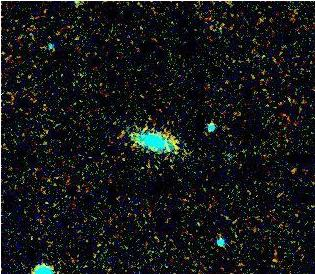star: (110, 115, 140, 145)
